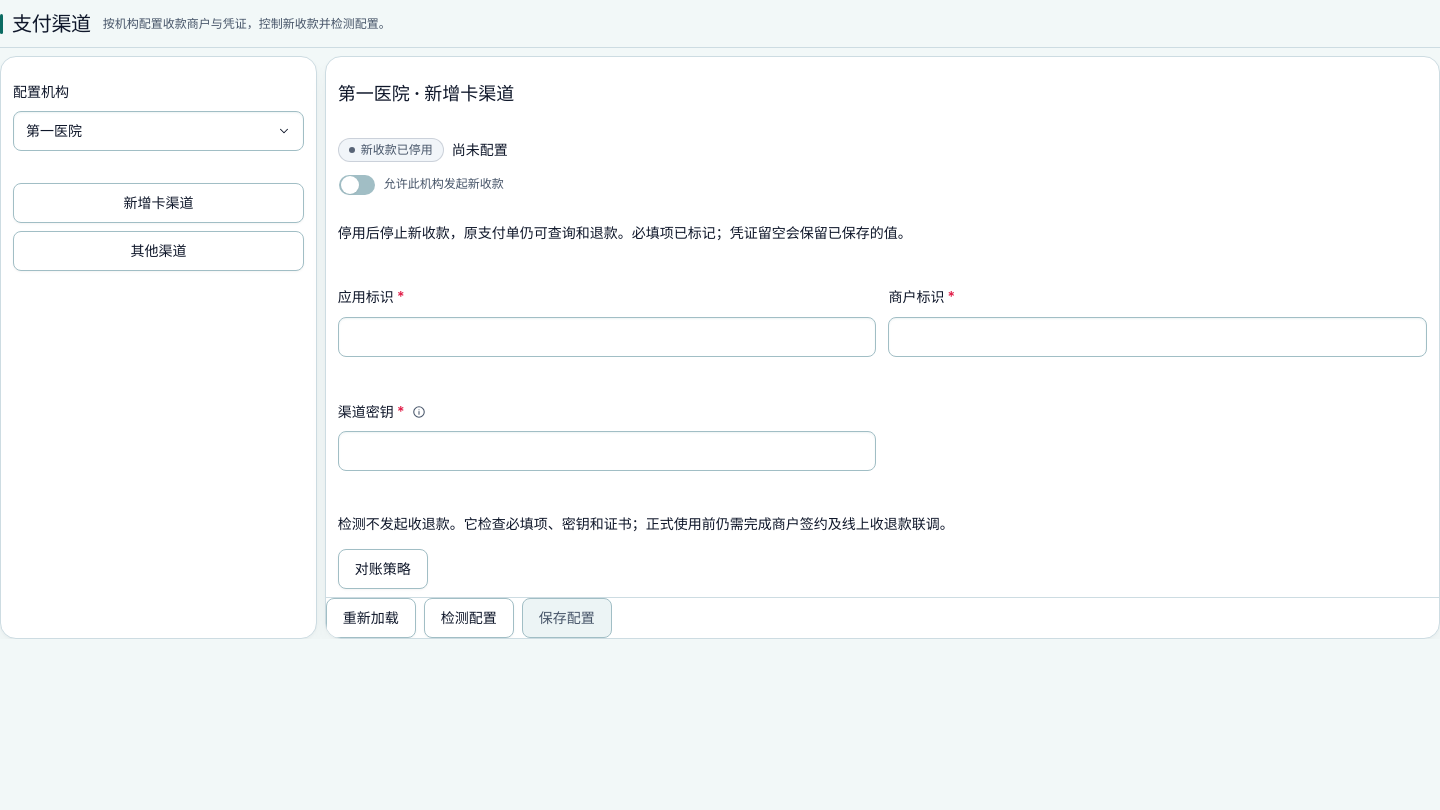
it: PaymentChannelManagement › shows reconciliation policy only when the selected provider declares statement capabilities
Click the button "对账策略": (383, 569) [338,549,428,589]
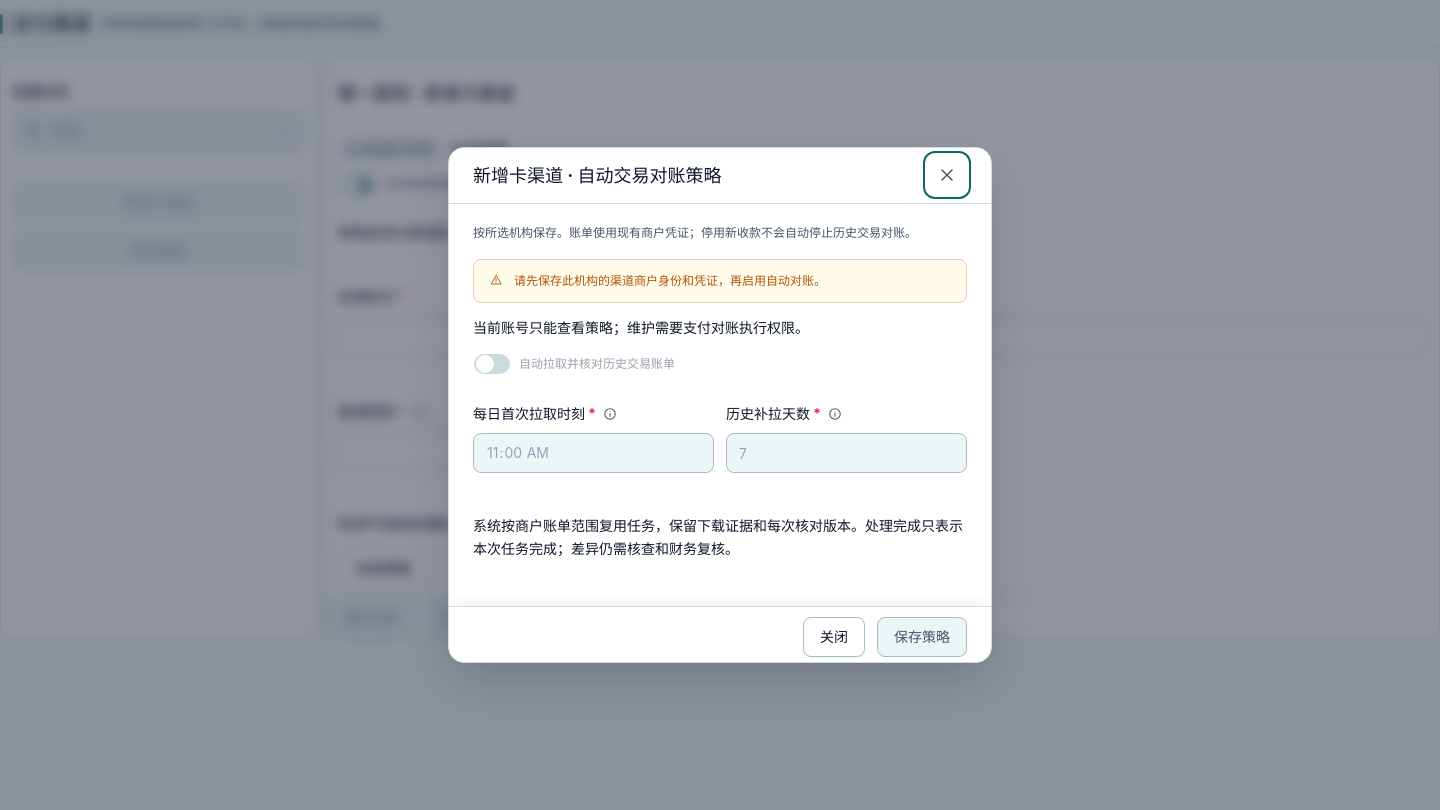
Check: the switch named "自动拉取并核对历史交易账单" is shown, box [473,353,511,375]
Click the button "关闭": (834, 637) [803,617,865,657]
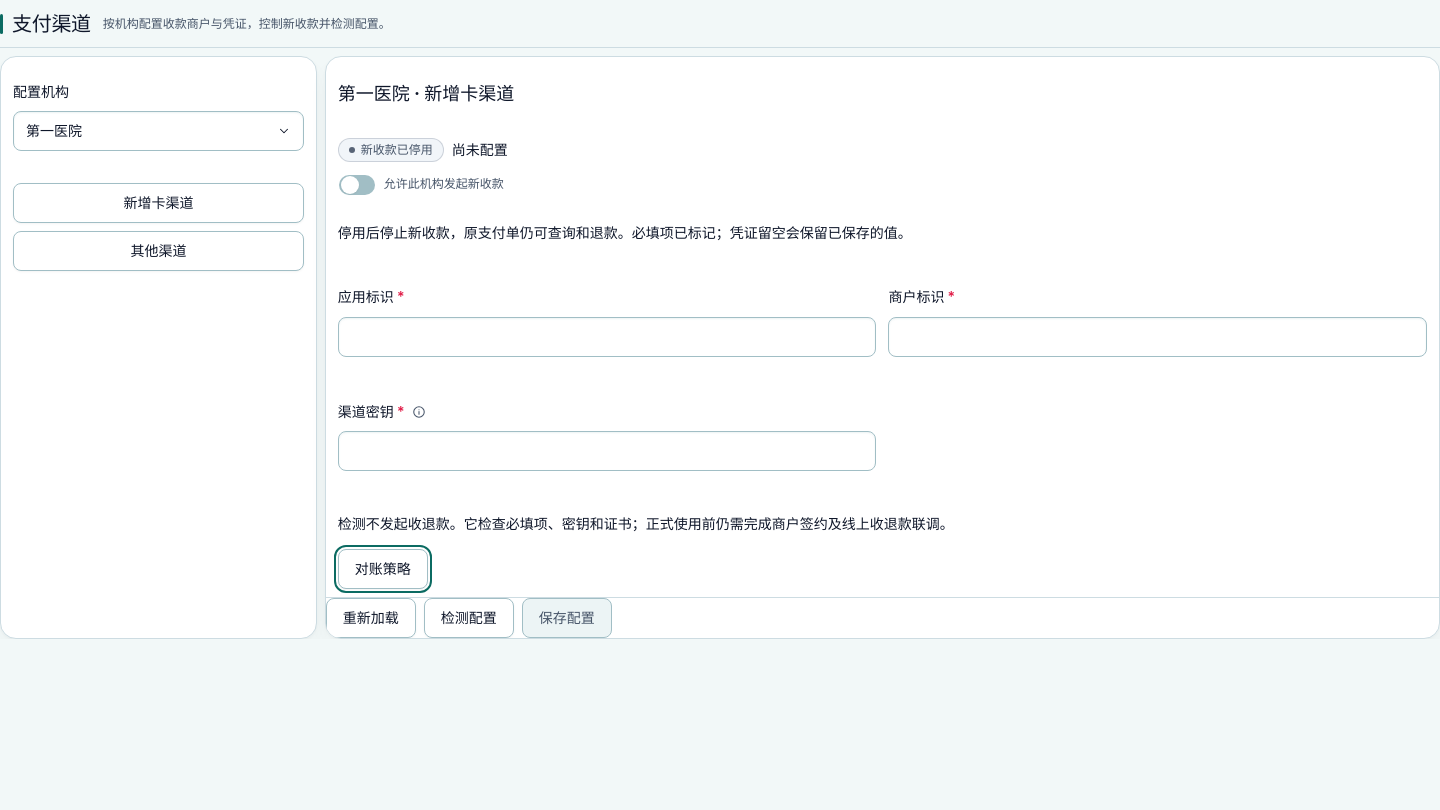
Click the button "其他渠道": (158, 251) [13,231,304,271]
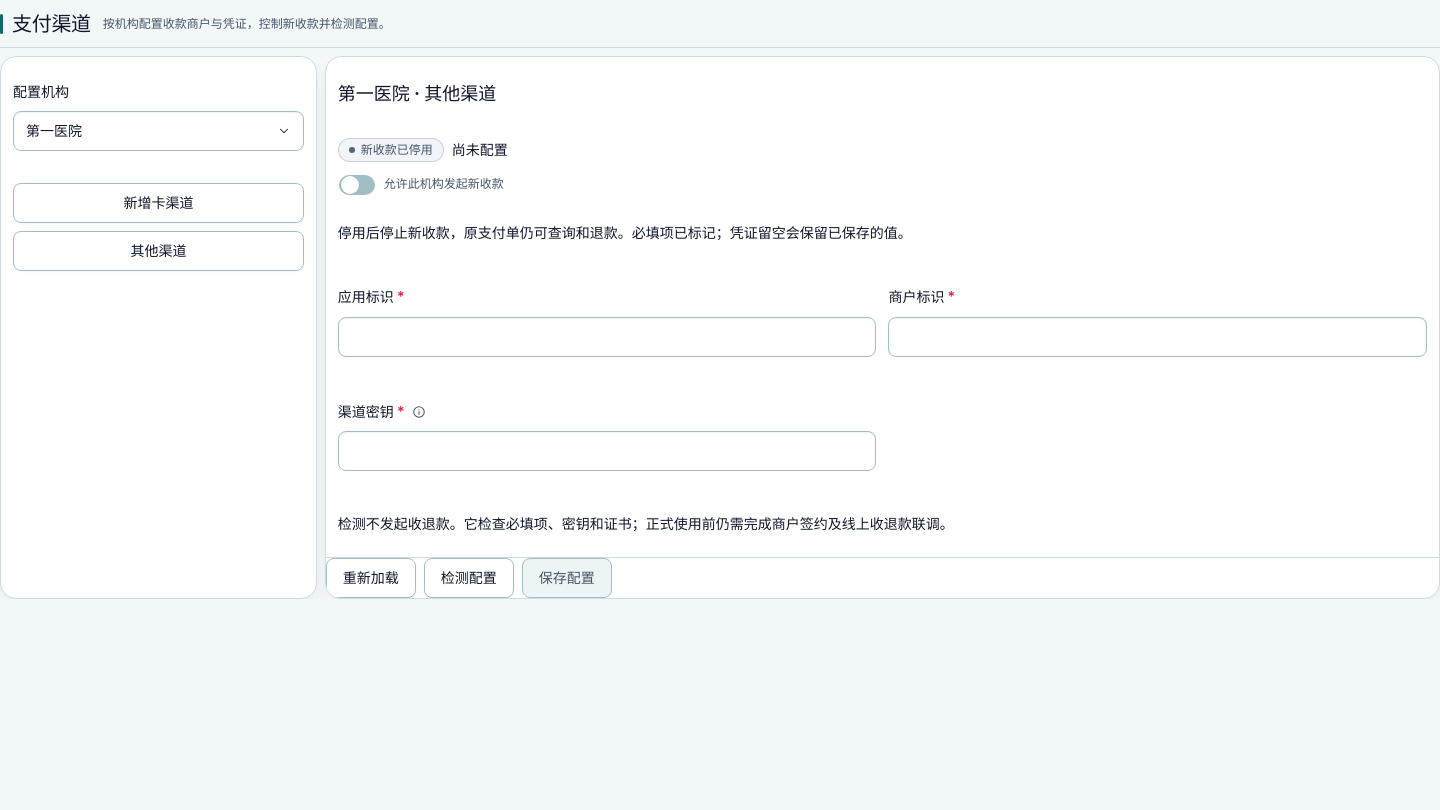
Check: the button "对账策略" is gone
